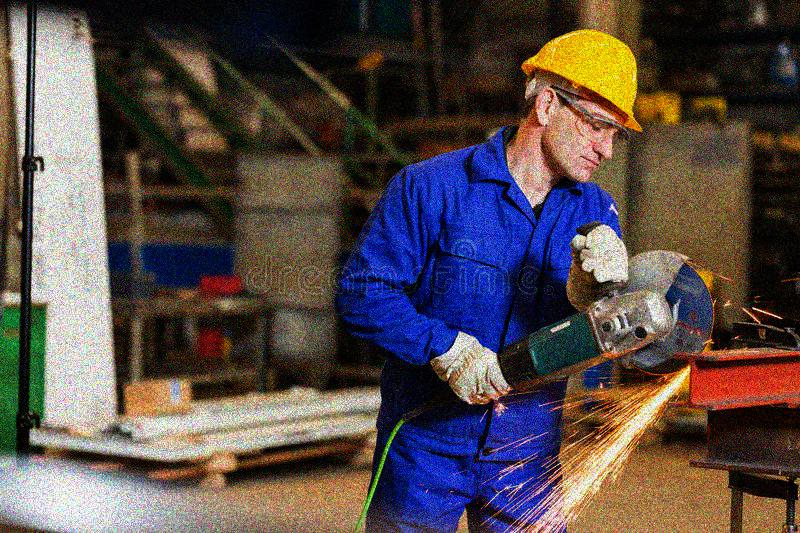helmet: (519, 27, 644, 187)
